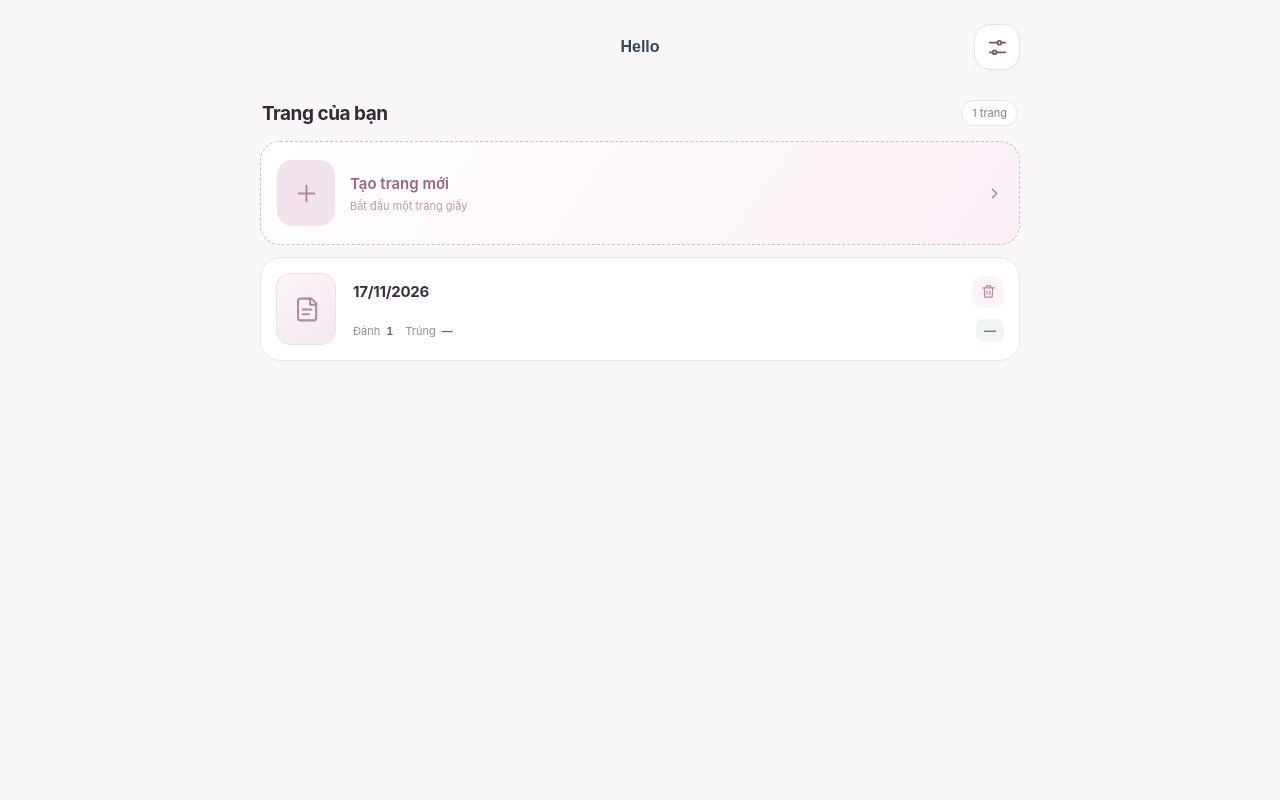
it: application integration › edits names in the catalog cards without reorder controls
expect the button with aria-label "Tạo A4 mới" is shown: met, box [260, 141, 1020, 245]
Click the button named "Mở A4 ngày" at (307, 309), box [276, 273, 338, 345]
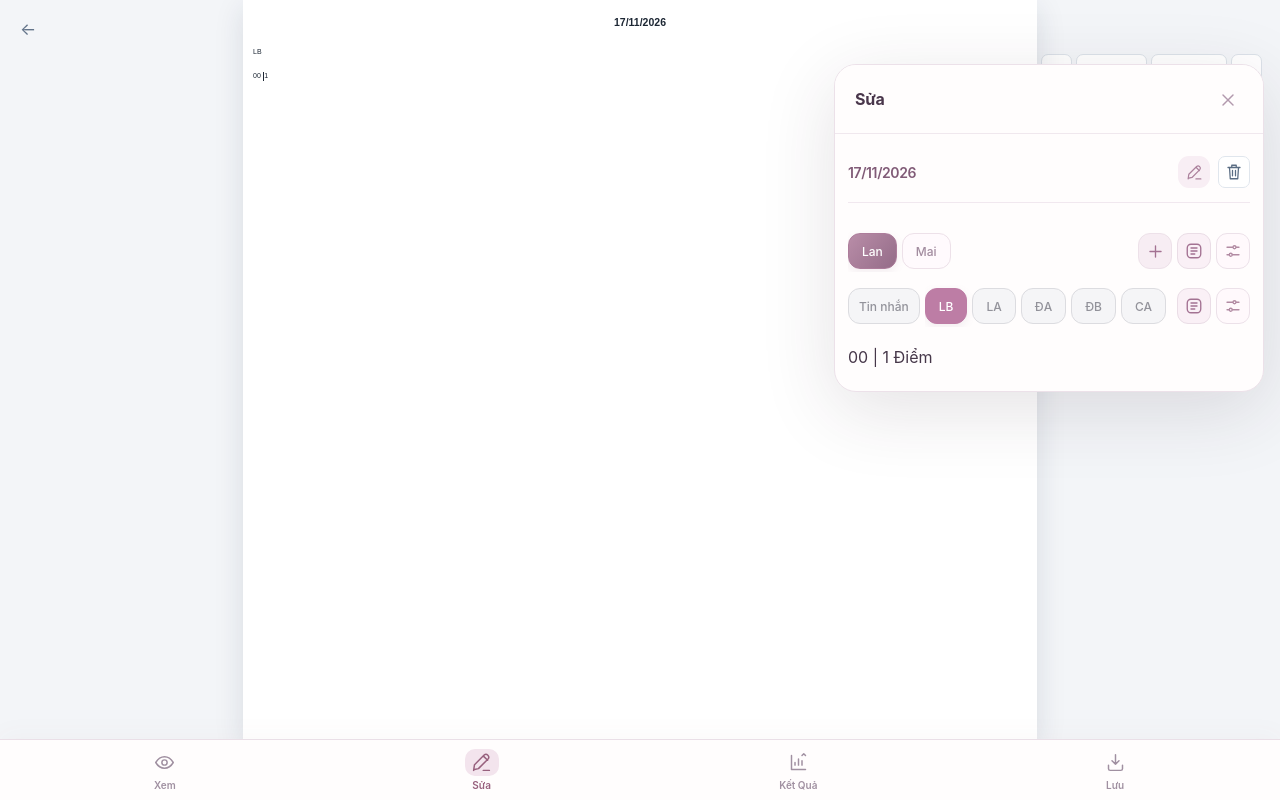
Click the button named "Cài đặt nhóm thiết lập" at (1233, 306), box [1216, 288, 1250, 324]
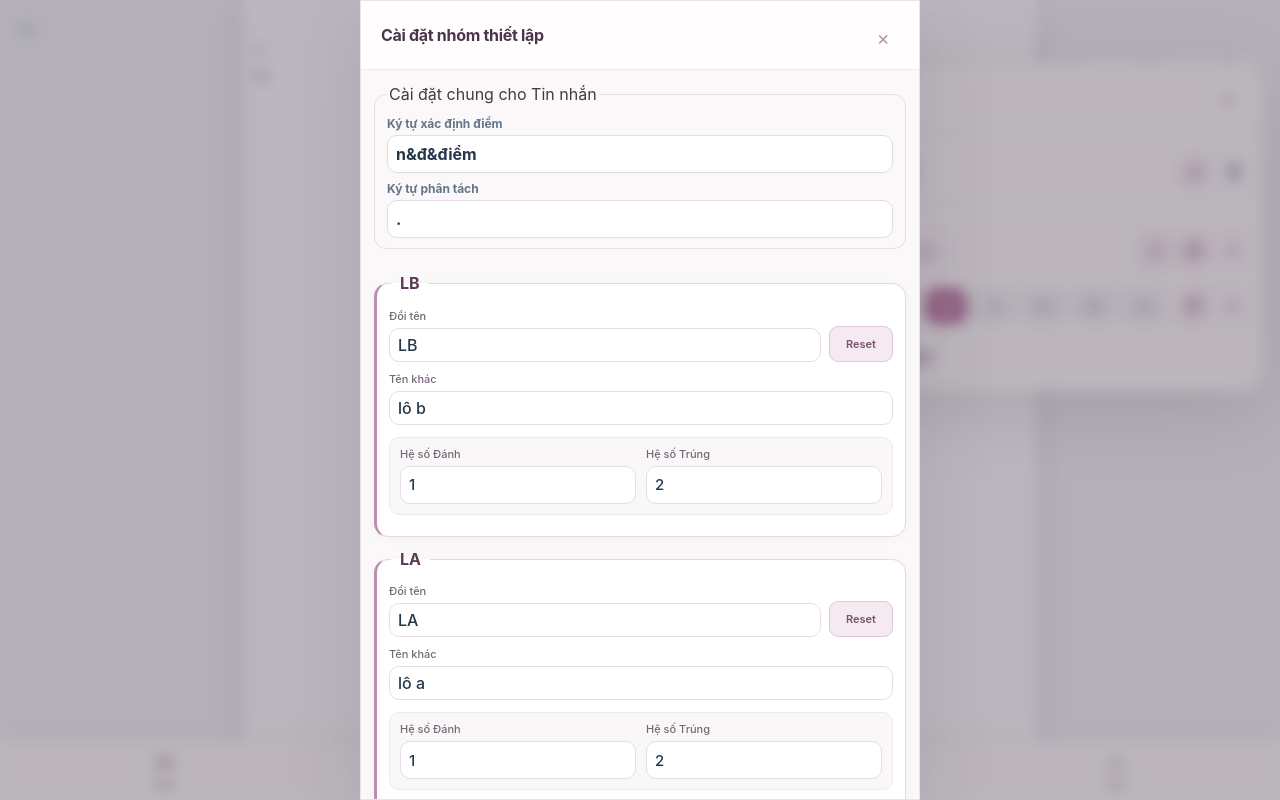
Replace the text in the field named "Tên thiết lập la" with "LA riêng" at (605, 620), box [389, 603, 821, 637]
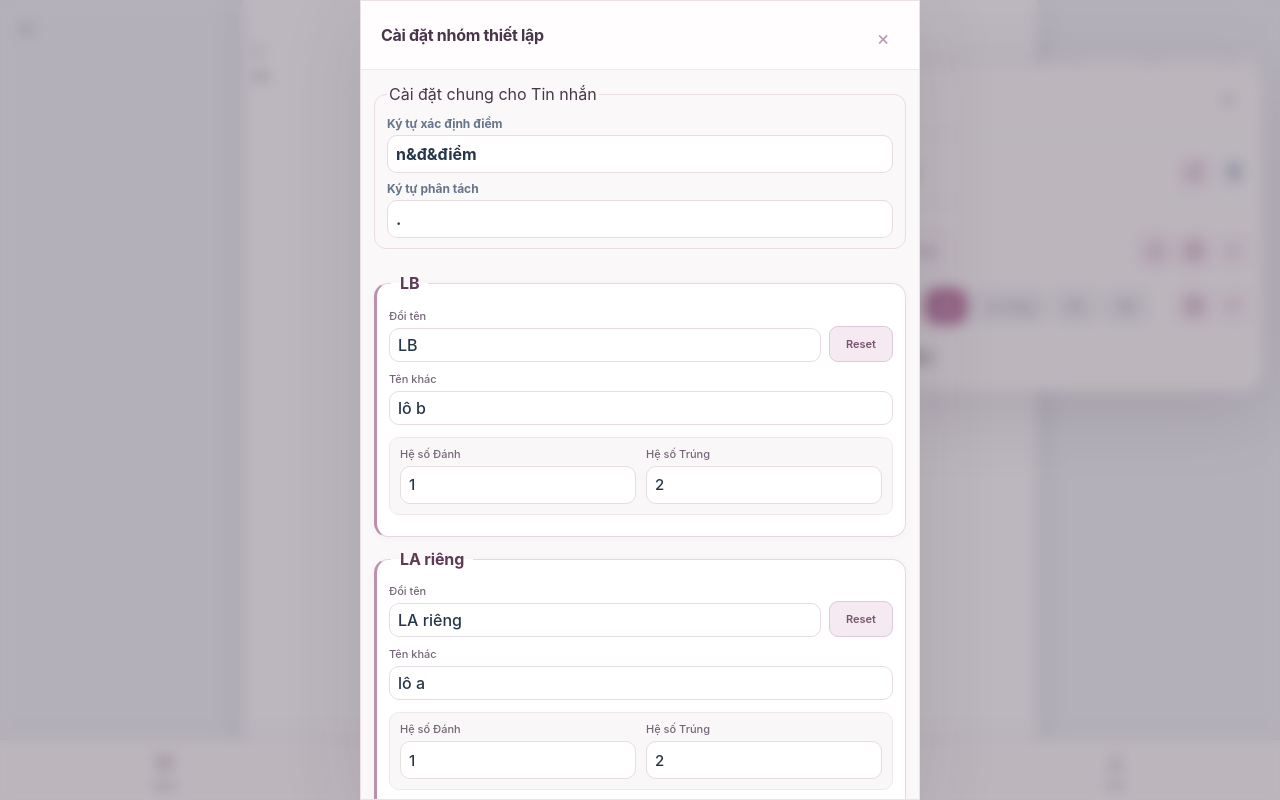
expect the text "LA riêng" is shown: met, box [400, 549, 464, 569]
